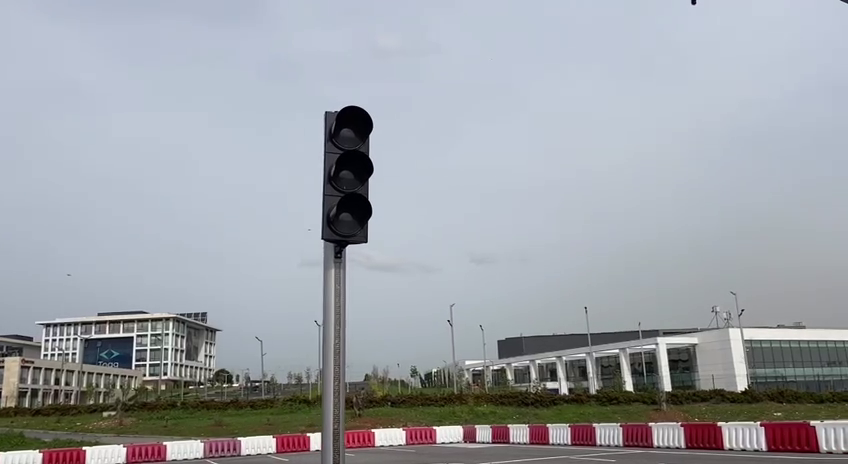trafficLight: (317, 100, 377, 249)
